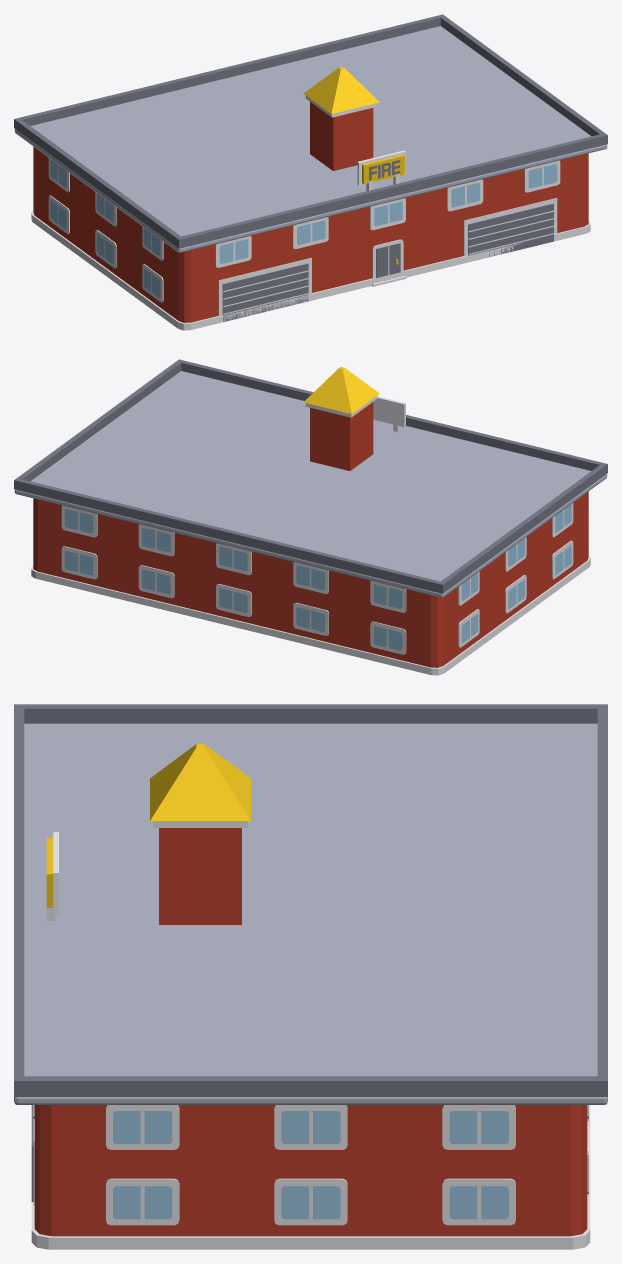
Rendered from fire-station-3x2.glb.
3 renders of one model, top to bottom at view 1: azimuth 30°, elevation 25°; view 2: azimuth 150°, elevation 25°; view 3: azimuth 270°, elevation 25°, orthographic. The views are drawn at different scales.
Visible parts, largest first — view 1: fire-station-3x2; view 2: fire-station-3x2; view 3: fire-station-3x2.
Boxes of the visible parts, x1,y1,x2,y2 form: fire-station-3x2: (14,14,607,330); fire-station-3x2: (14,359,607,675); fire-station-3x2: (14,704,607,1249).
Bounding box in the file's own units: 3 × 1.2 × 2.
1 material, 1 textured.
